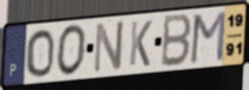B: (159, 13, 193, 69)
K: (128, 19, 154, 68)
M: (188, 9, 227, 65)
N: (92, 19, 126, 76)
O: (55, 23, 88, 78), (25, 28, 56, 79)
